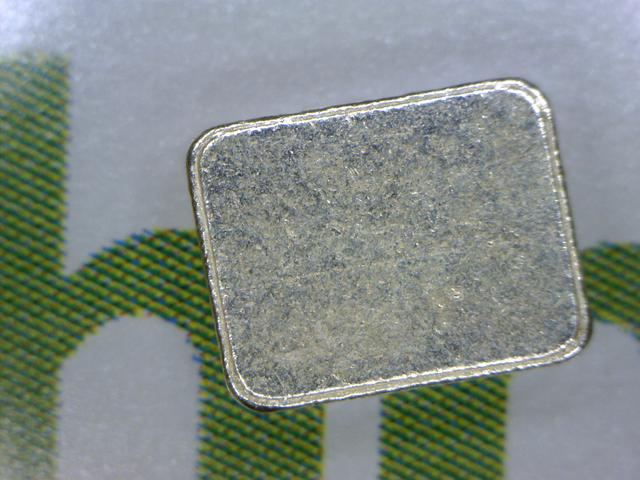nok: (162, 76, 602, 417)
